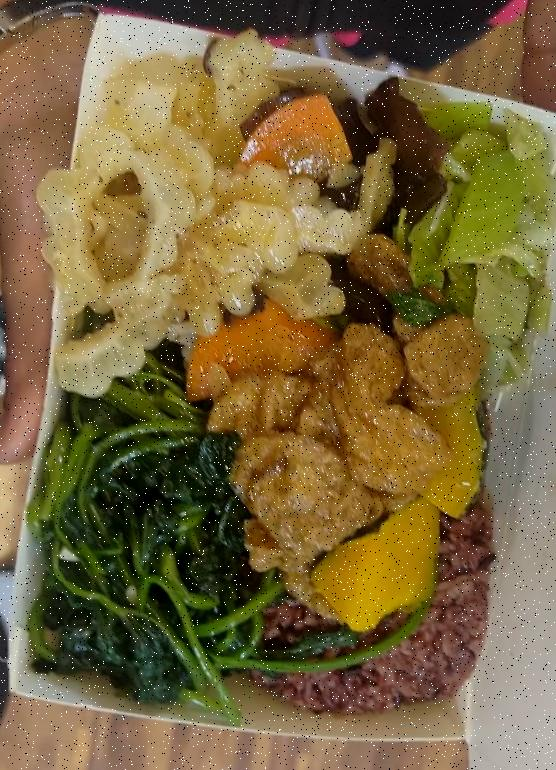box: (0, 12, 552, 752)
purple rice: (238, 417, 506, 721)
side dish: (197, 321, 486, 618), (45, 47, 287, 384), (33, 367, 231, 705), (415, 100, 546, 374), (262, 87, 409, 320)
